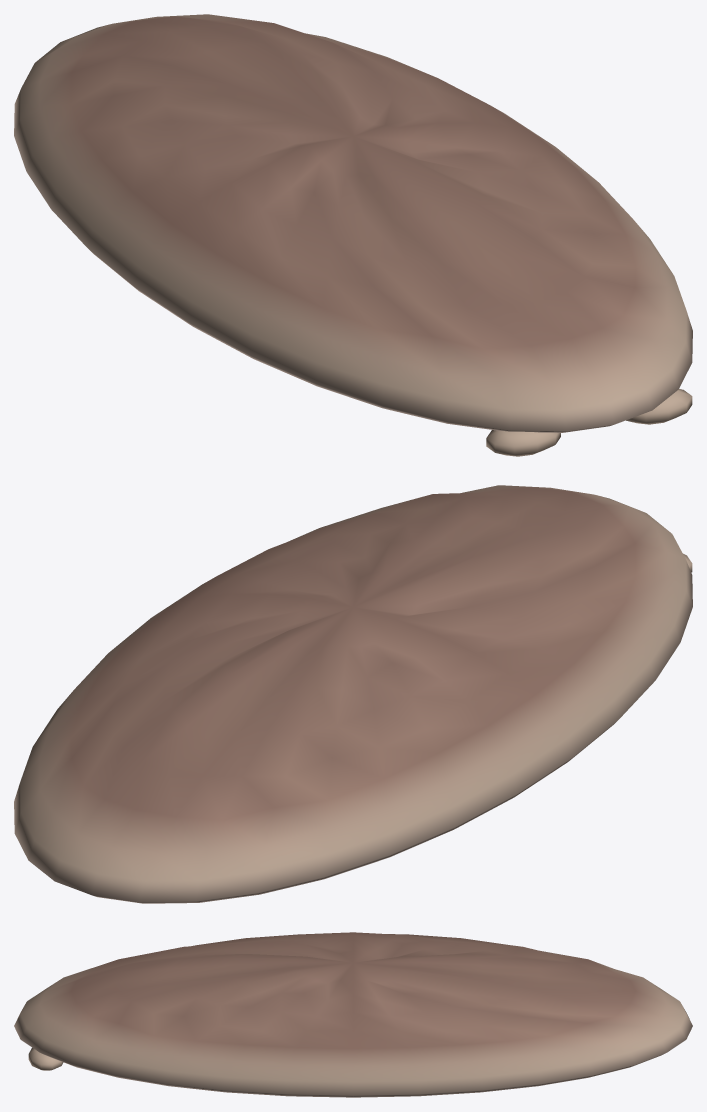
The model's file is Odontogriphus.fbx.
The picture shows the model from 3 angles, top to bottom: view 1: azimuth 30°, elevation 25°; view 2: azimuth 150°, elevation 25°; view 3: azimuth 270°, elevation 25°; orthographic projection. The views are drawn at different scales.
Visible parts, largest first — view 1: Odontogriphus; view 2: Odontogriphus; view 3: Odontogriphus.
Boxes of the visible parts, x1=… form: Odontogriphus: x1=14, y1=14, x2=692, y2=456; Odontogriphus: x1=14, y1=485, x2=692, y2=903; Odontogriphus: x1=14, y1=932, x2=692, y2=1097.
Size of the model in its own units: 0.6 by 0.1772 by 1.24.
